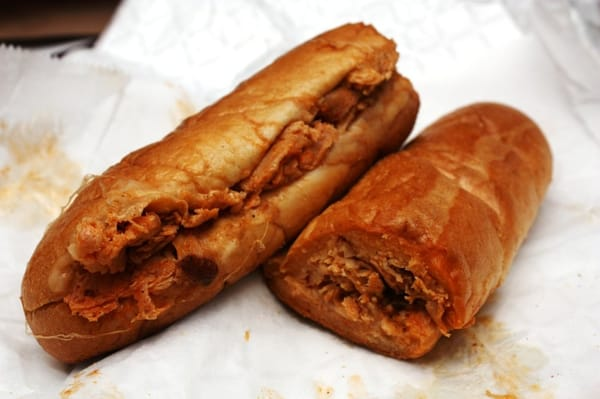soup: (19, 19, 422, 369), (262, 100, 554, 360)
